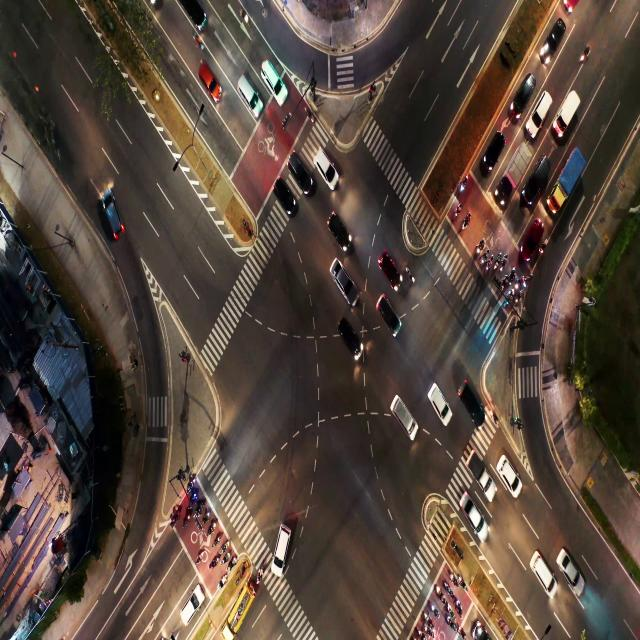bus: (233, 605, 247, 621)
car: (392, 395, 418, 441), (102, 182, 120, 235), (271, 526, 289, 576), (462, 379, 484, 418), (560, 552, 584, 586), (238, 79, 261, 114), (463, 486, 482, 528), (182, 586, 204, 622), (330, 213, 353, 246), (288, 156, 312, 185), (333, 263, 354, 296), (261, 66, 286, 92), (501, 455, 519, 491), (535, 554, 552, 590), (485, 128, 503, 161), (200, 64, 218, 96), (338, 324, 362, 348), (379, 300, 398, 330), (275, 175, 291, 207), (517, 78, 535, 106), (318, 154, 337, 180), (382, 254, 398, 283), (530, 165, 547, 190), (434, 386, 449, 414), (548, 21, 563, 48), (534, 98, 548, 125), (527, 222, 541, 248)
motorcycle: (192, 32, 204, 48), (240, 10, 249, 26), (257, 565, 264, 583), (196, 502, 204, 516), (196, 550, 204, 564), (306, 107, 314, 121), (430, 604, 439, 616), (453, 203, 460, 218), (476, 238, 484, 251), (172, 508, 178, 524), (186, 476, 194, 488), (202, 510, 210, 522), (221, 570, 227, 586), (408, 266, 414, 282), (461, 177, 467, 193), (541, 239, 547, 255), (424, 625, 432, 637), (463, 215, 470, 228), (447, 618, 454, 631), (209, 521, 215, 536), (211, 554, 217, 569), (215, 531, 221, 545), (517, 292, 524, 304), (460, 625, 466, 639), (185, 508, 190, 524), (493, 410, 498, 426), (502, 255, 507, 270), (461, 577, 466, 592), (228, 558, 234, 570), (502, 276, 507, 290), (436, 584, 441, 598), (426, 615, 432, 626), (445, 585, 453, 593), (450, 574, 457, 583), (192, 490, 197, 502), (221, 542, 227, 552), (482, 252, 487, 264), (496, 253, 500, 268), (525, 276, 530, 288), (449, 604, 454, 616), (417, 624, 422, 636), (508, 291, 513, 302), (516, 278, 521, 289), (222, 553, 228, 562), (488, 256, 492, 269), (510, 267, 514, 280), (458, 602, 462, 615)
truck: (471, 451, 493, 495), (558, 162, 580, 184), (559, 95, 575, 122), (509, 156, 521, 179)
